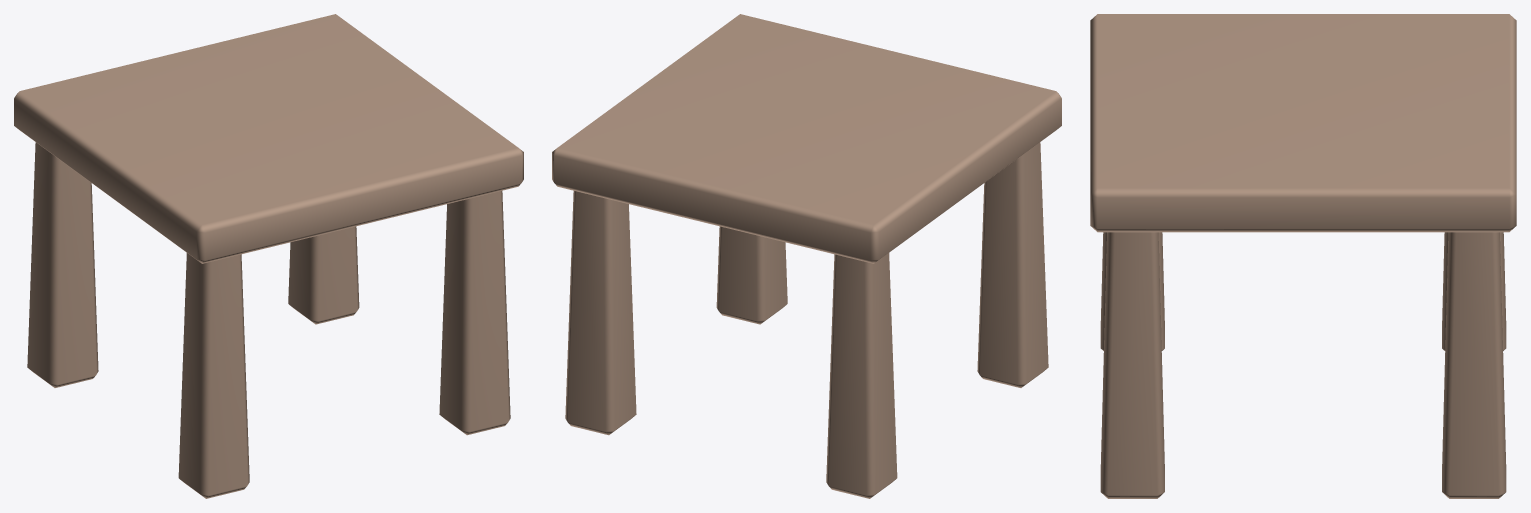
The model's file is Chair_6.glb.
The picture shows the model from 3 angles, left to right: view 1: azimuth 30°, elevation 25°; view 2: azimuth 150°, elevation 25°; view 3: azimuth 270°, elevation 25°; orthographic projection. The views are drawn at different scales.
Parts seen in each view (by area): view 1: Chair_6; view 2: Chair_6; view 3: Chair_6.
Part boxes in pixels (box(x1,y1,x2,y2)): Chair_6: box(14, 14, 523, 498); Chair_6: box(552, 14, 1061, 498); Chair_6: box(1090, 14, 1516, 498).
Size of the model in its own units: 0.4564 by 0.3727 by 0.4564.
Materials: 1 (1 with a texture image).
